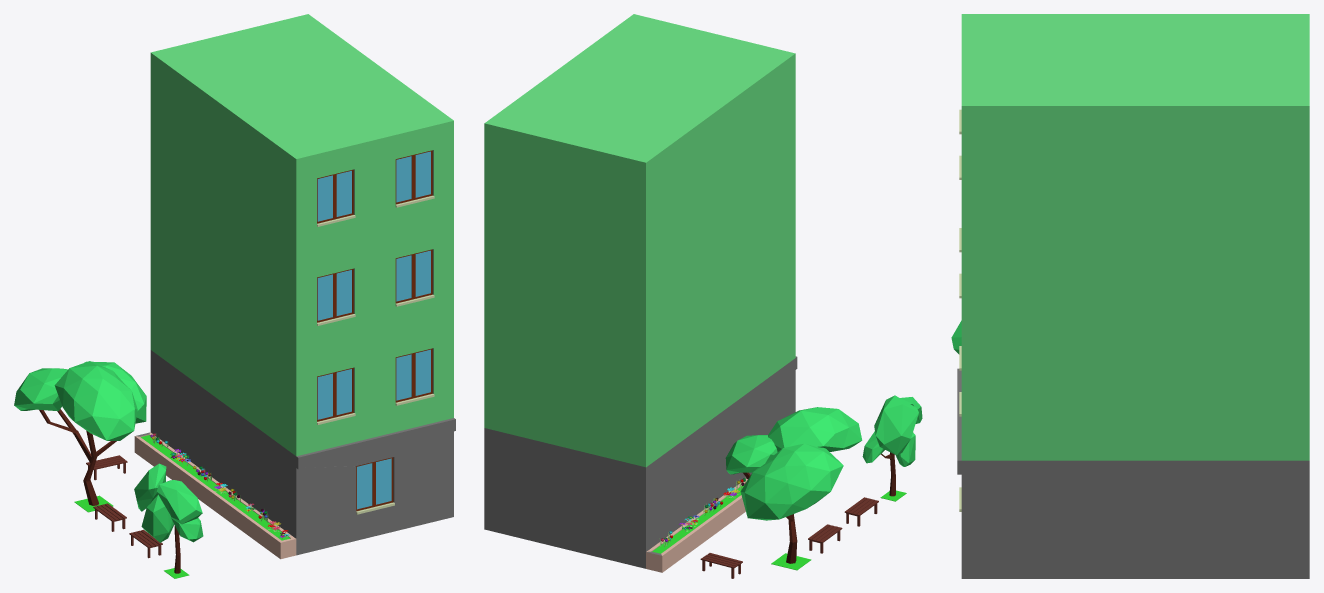
The model's file is SM_Building02.fbx.
The picture shows the model from 3 angles, left to right: view 1: azimuth 30°, elevation 25°; view 2: azimuth 150°, elevation 25°; view 3: azimuth 270°, elevation 25°; orthographic projection. The views are drawn at different scales.
Parts seen in each view (by area): view 1: SM_Building02; view 2: SM_Building02; view 3: SM_Building02.
Part boxes in pixels (x1,y1,x2,y2): SM_Building02: (14, 14, 455, 578); SM_Building02: (484, 14, 922, 578); SM_Building02: (951, 14, 1309, 578).
Bounding box in the file's own units: 501 × 601 × 412.
